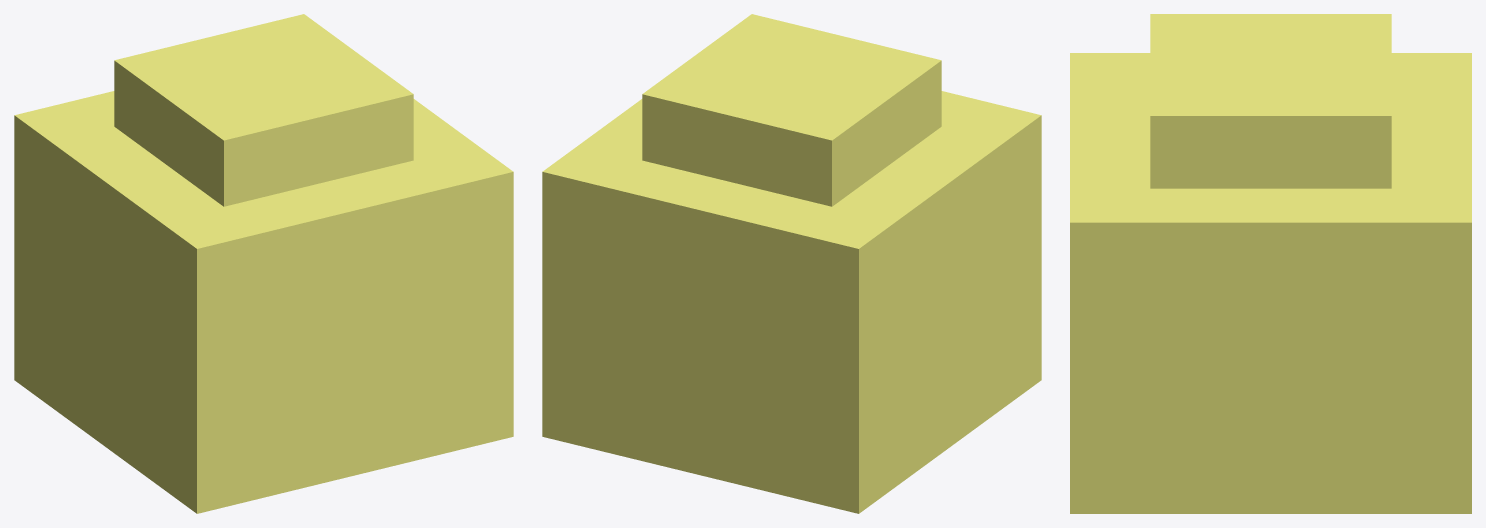
Rendered from Item_DS_Food_Cheese_V1.glb.
The picture shows the model from 3 angles, left to right: view 1: azimuth 30°, elevation 25°; view 2: azimuth 150°, elevation 25°; view 3: azimuth 270°, elevation 25°; orthographic projection. The views are drawn at different scales.
Parts seen in each view (by area): view 1: Cube, Cube.001; view 2: Cube, Cube.001; view 3: Cube, Cube.001.
Part boxes in pixels (x1,y1,x2,y2): Cube: (14, 91, 513, 513); Cube.001: (114, 14, 413, 206); Cube: (542, 91, 1041, 513); Cube.001: (642, 14, 941, 206); Cube: (1070, 53, 1471, 513); Cube.001: (1150, 14, 1391, 188).
Size of the model in its own units: 0.22 by 0.22 by 0.22.
